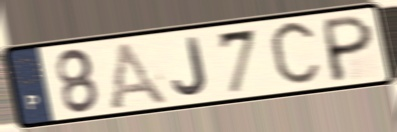7: (214, 28, 262, 96)
8: (54, 46, 101, 116)
A: (105, 38, 174, 109)
C: (266, 17, 325, 92)
J: (170, 34, 211, 98)
P: (323, 11, 376, 84)
